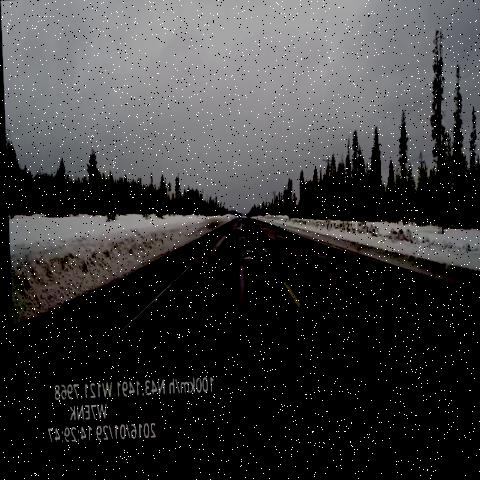pothole: (323, 246, 380, 312), (232, 239, 253, 272), (286, 239, 313, 264), (233, 223, 250, 247), (216, 226, 233, 250)
